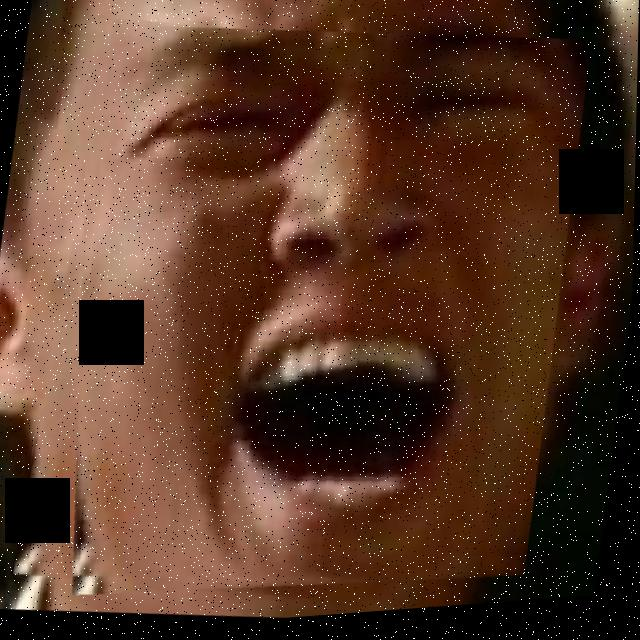anger: (19, 0, 592, 638)
